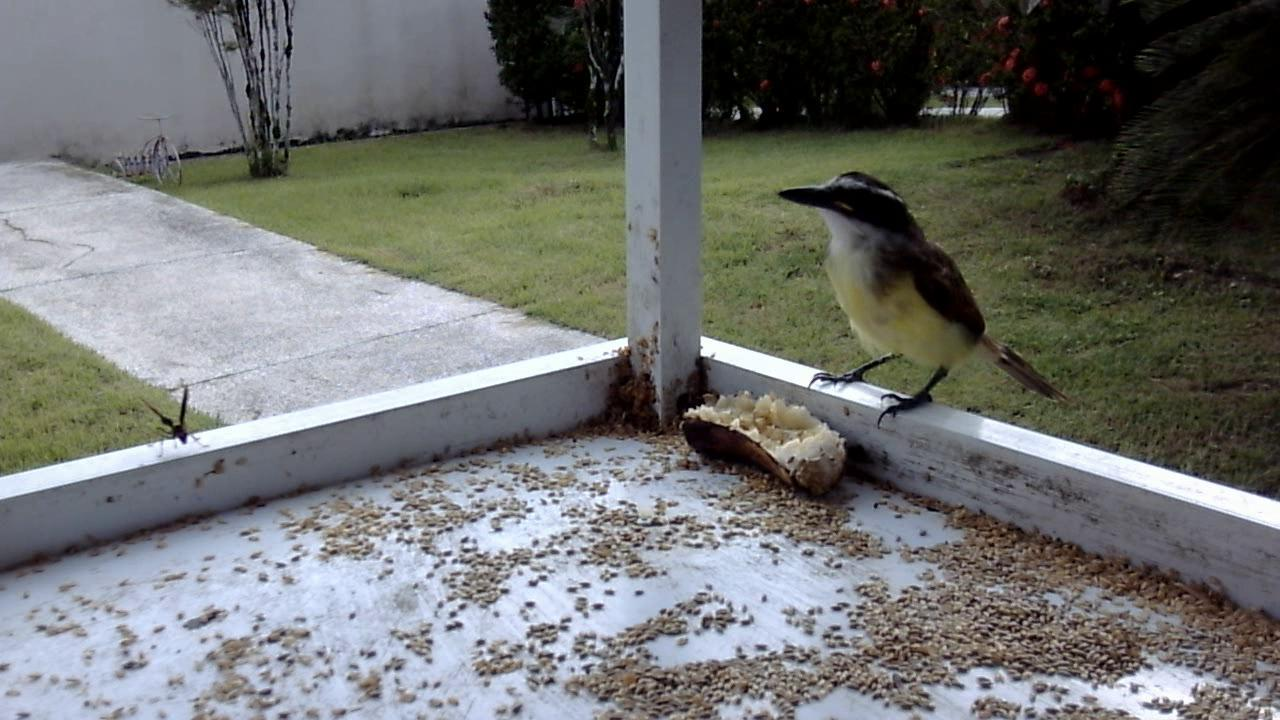bem_te_vi: (773, 167, 1075, 431)
